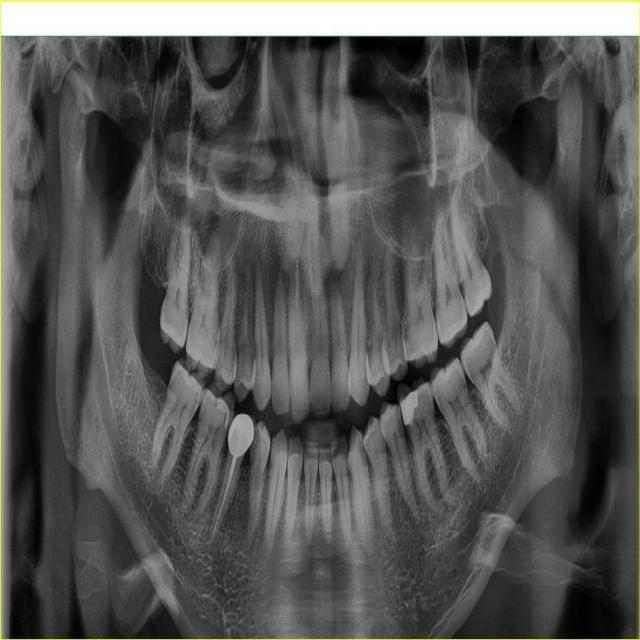74: (208, 455, 238, 544)
NucleOSS Implant: (399, 390, 419, 426)
Sterngold Implant: (248, 428, 263, 467), (357, 434, 368, 467), (394, 410, 405, 439), (221, 411, 229, 440), (432, 388, 437, 399)
Zimmer Implant: (225, 408, 257, 458)
